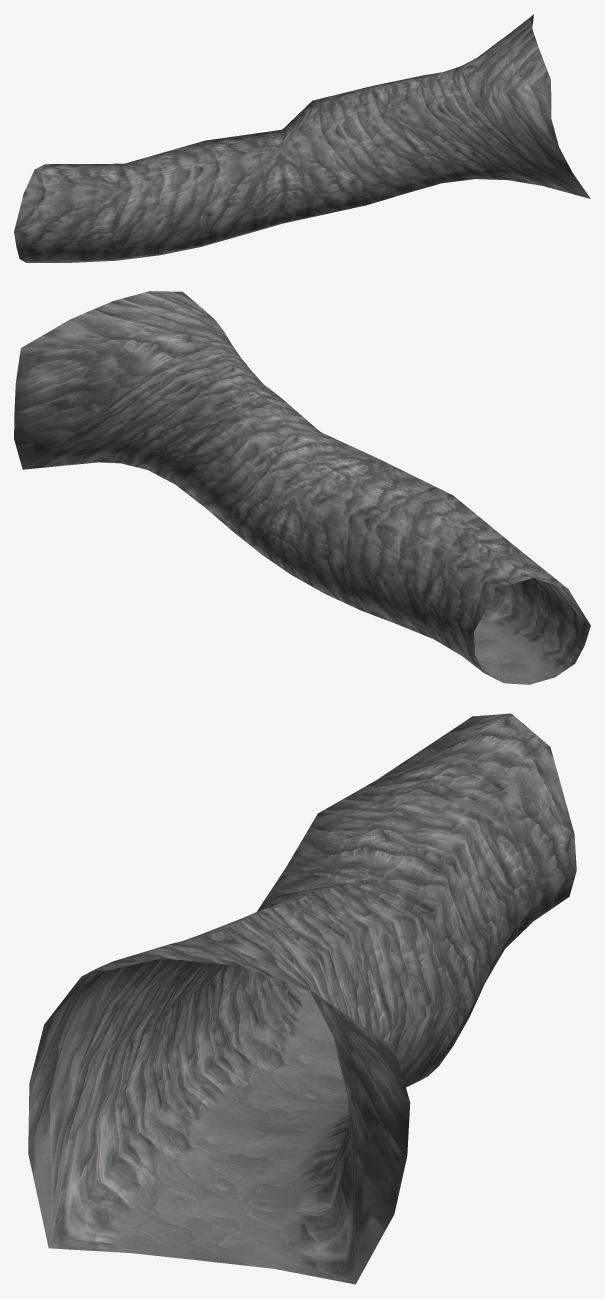
Rendered from SWORDLIGHT20_PS-AREA03-05TRANS_03.fbx.
The picture shows the model from 3 angles, top to bottom: view 1: azimuth 30°, elevation 25°; view 2: azimuth 150°, elevation 25°; view 3: azimuth 270°, elevation 25°; orthographic projection. The views are drawn at different scales.
Parts seen in each view (by area): view 1: SWORDLIGHT20_PS-AREA03-05TRANS_03; view 2: SWORDLIGHT20_PS-AREA03-05TRANS_03; view 3: SWORDLIGHT20_PS-AREA03-05TRANS_03.
Boxes of the visible parts, <box> form: SWORDLIGHT20_PS-AREA03-05TRANS_03: <box>14,14,590,262</box>; SWORDLIGHT20_PS-AREA03-05TRANS_03: <box>14,291,590,684</box>; SWORDLIGHT20_PS-AREA03-05TRANS_03: <box>28,713,576,1284</box>.
Bounding box in the file's own units: 163273 × 53059 × 75463.
Materials: 2 (2 with a texture image).
